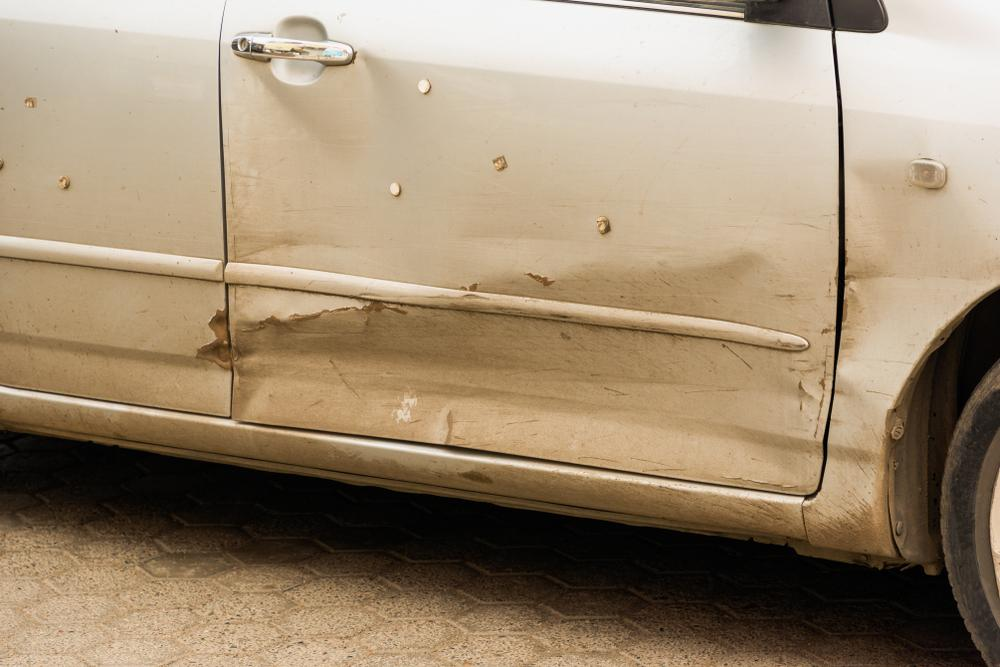dent: (238, 261, 801, 486), (837, 164, 984, 402), (244, 55, 410, 190)
